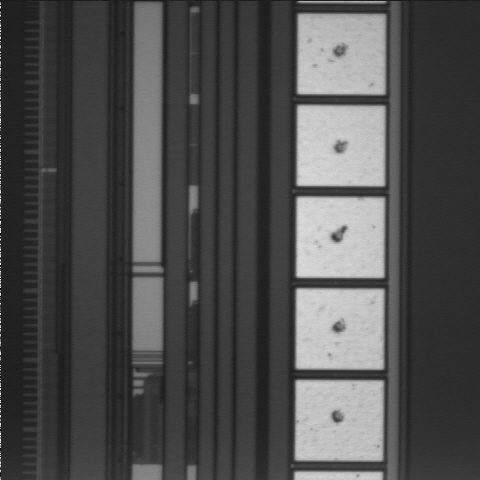pad: (297, 197, 384, 278), (297, 106, 384, 186), (296, 289, 383, 369), (296, 381, 383, 460), (298, 15, 384, 94)
